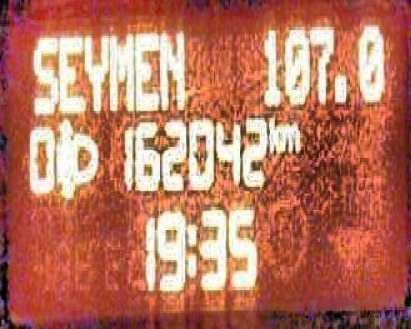-: (331, 71, 348, 104)
0: (281, 26, 311, 104), (356, 20, 385, 100), (26, 122, 55, 197), (188, 115, 213, 189)
1: (261, 24, 281, 104), (144, 215, 155, 291), (121, 122, 133, 188)
2: (160, 117, 187, 191), (241, 113, 267, 186)
3: (197, 202, 226, 288)
4: (213, 115, 241, 184)
5: (226, 200, 257, 289)
6: (134, 117, 160, 191)
7: (308, 24, 333, 106)
9: (154, 206, 185, 291)
X: (107, 31, 134, 111), (134, 29, 160, 111), (59, 33, 85, 115), (31, 33, 57, 115), (83, 31, 108, 115), (160, 29, 185, 111), (183, 220, 197, 280), (282, 122, 301, 155), (267, 115, 282, 151)
